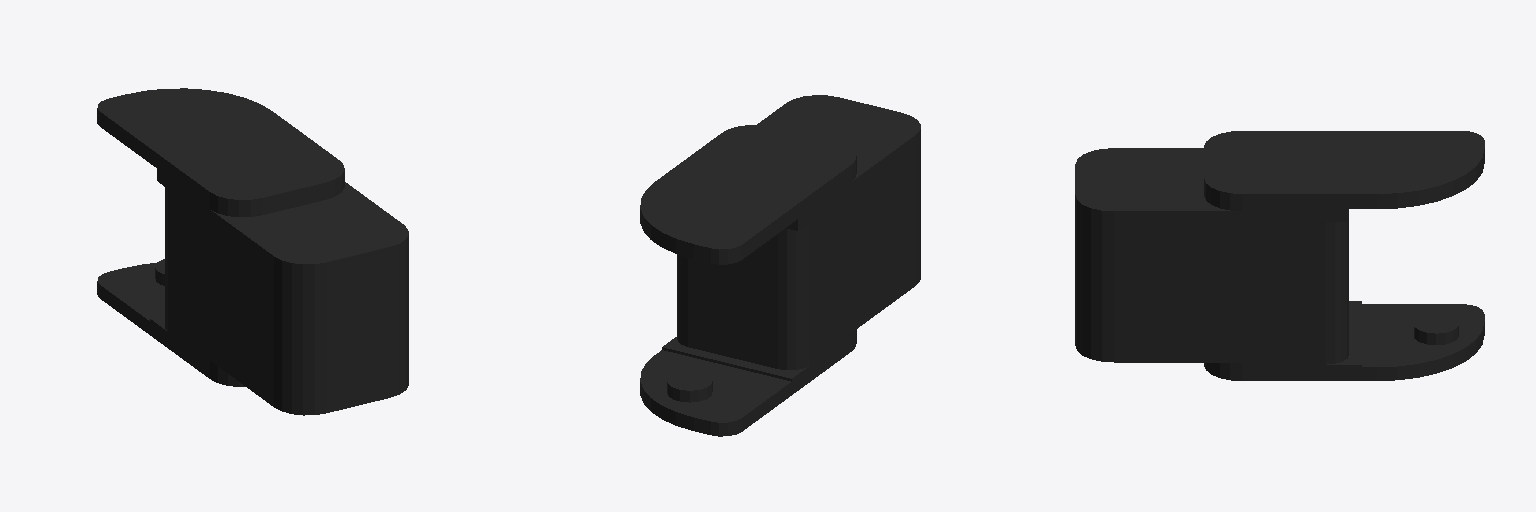
The picture shows the model from 3 angles: view 1: azimuth 30°, elevation 25°; view 2: azimuth 150°, elevation 25°; view 3: azimuth 270°, elevation 25°; orthographic projection.
Visible parts, largest first — view 1: link_2.0; view 2: link_2.0; view 3: link_2.0.
Boxes of the visible parts, x1,y1,x2,y2 form: link_2.0: [97, 88, 408, 415]; link_2.0: [640, 95, 920, 436]; link_2.0: [1075, 131, 1484, 380].
Bounding box in the file's own units: 0.0196 × 0.027 × 0.0535.